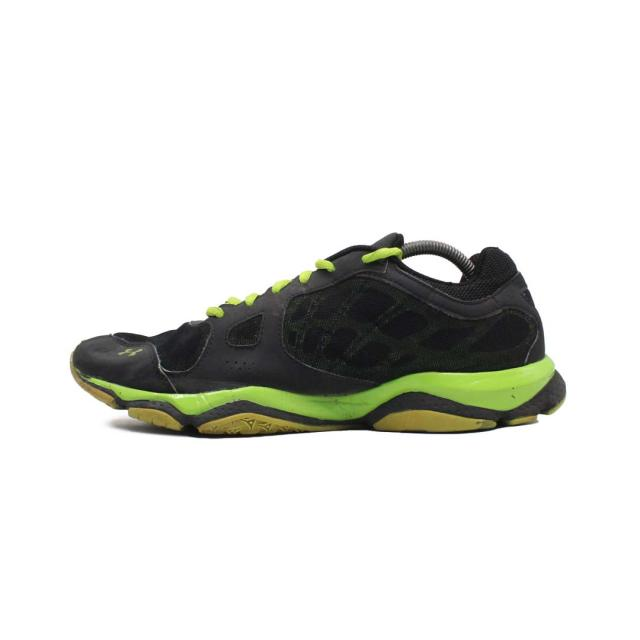heel: (490, 227, 551, 366)
midsole: (61, 362, 569, 439)
uppersole: (53, 226, 500, 383)
